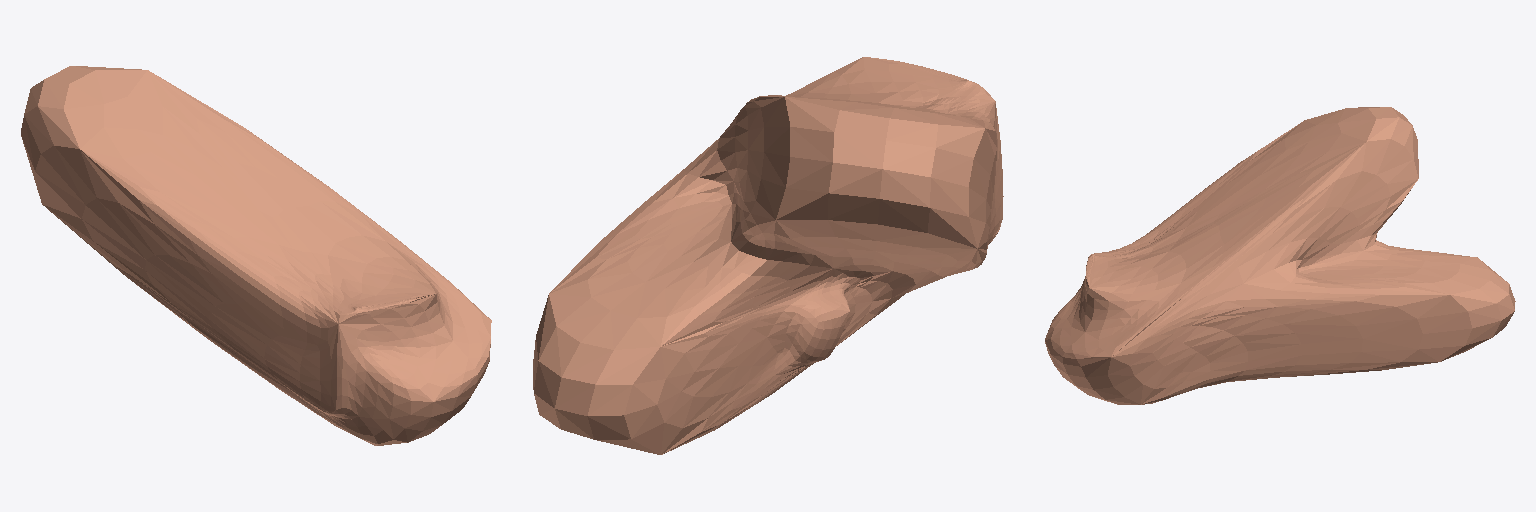
The robot description file, URDF, robot "blob252":

<robot name="blob252">
  <link name="random_obj_252">
    <contact>
      <lateral_friction value="1.0"/>
      <rolling_friction value="0.0"/>
      <inertia_scaling value="3.0"/>
      <contact_cfm value="0.0"/>
      <contact_erp value="1.0"/>
    </contact>
    <inertial>
      <origin rpy="0 0 0" xyz="0 0 0"/>
      <mass value="0.1155"/>
      <inertia ixx="1" ixy="0" ixz="0" iyy="1" iyz="0" izz="0"/>
    </inertial>
    <visual>
      <origin rpy="0 0 0" xyz="0 0 0"/>
      <geometry>
        <mesh filename="252.obj" scale="0.0093 0.0093 0.0093"/>
      </geometry>
      <material name="blockmat">
        <color rgba="0.85 0.64 0.54 1"/>
      </material>
    </visual>
    <collision>
      <origin rpy="0 0 0" xyz="0 0 0"/>
      <geometry>
        <mesh filename="252_coll.obj" scale="0.0093 0.0093 0.0093"/>
      </geometry>
    </collision>
  </link>
</robot>

--- What the picture shows (computed from the rendered views, not written in the file) ---
3 views of the same robot in one strip: view 1: azimuth 30°, elevation 25°; view 2: azimuth 150°, elevation 25°; view 3: azimuth 270°, elevation 25° (orthographic).
Model blob252 with 1 links and 0 joints (none), rooted at random_obj_252, posed all joints at 0.
Visible links, largest first — view 1: random_obj_252; view 2: random_obj_252; view 3: random_obj_252.
Link boxes in pixels (x1,y1,x2,y2): random_obj_252: [21, 66, 491, 445]; random_obj_252: [533, 57, 1003, 454]; random_obj_252: [1045, 107, 1515, 404].
Bounding box of the posed robot: 0.0702 × 0.1162 × 0.059 m (x, y, z).
Meshes: 1 distinct files referenced, 1 mesh visuals loaded (1 OBJ).
